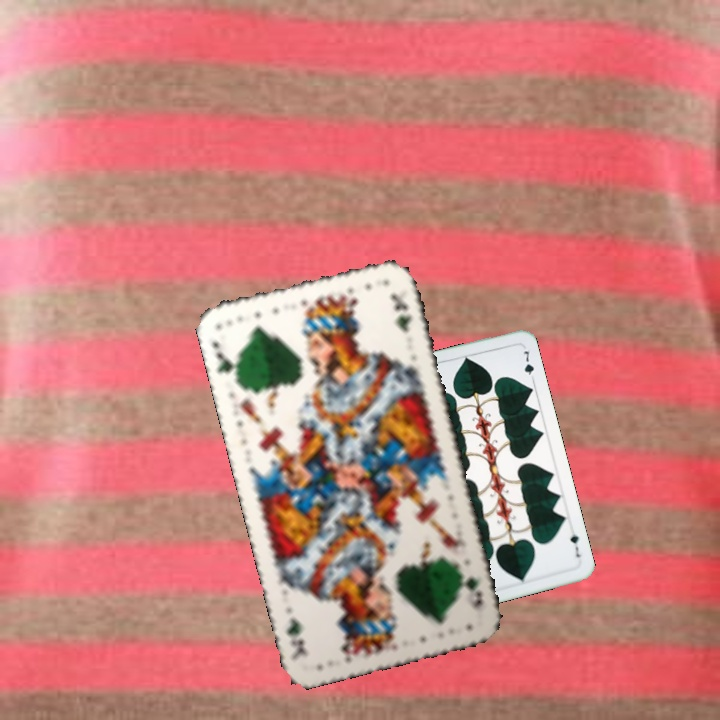G7: (566, 530, 583, 560)
GK: (455, 562, 485, 612), (208, 337, 241, 382)
